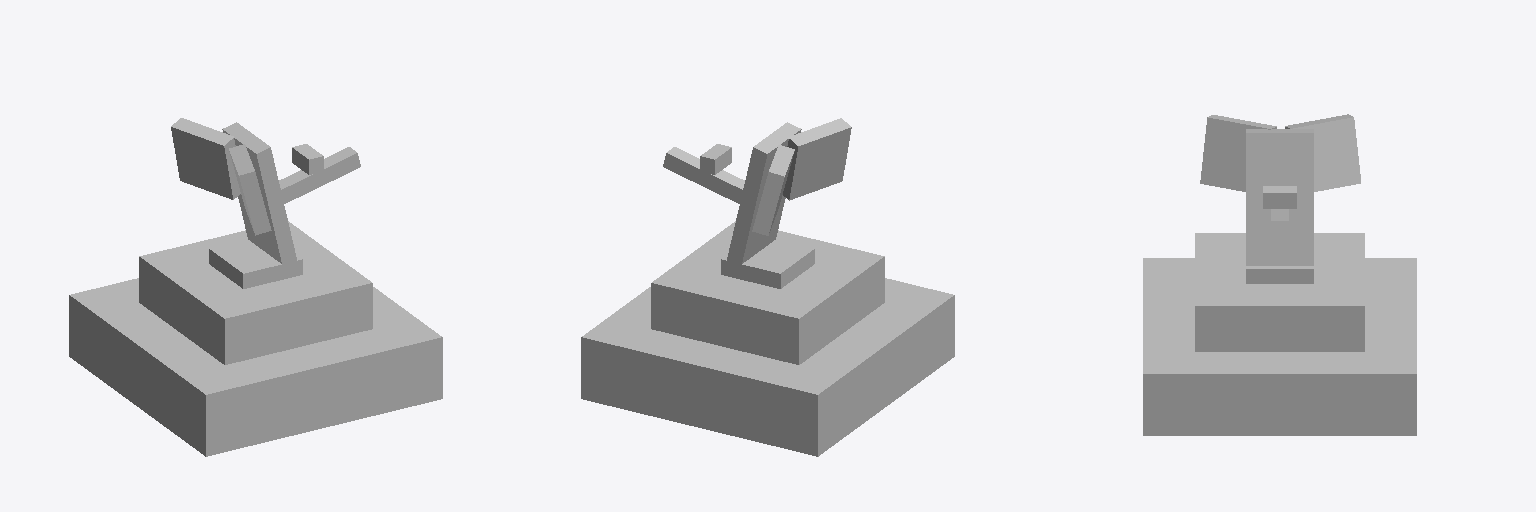
Rendered from universalSensor.obj.
3 views of the same model, side by side, from view 1: azimuth 30°, elevation 25°; view 2: azimuth 150°, elevation 25°; view 3: azimuth 270°, elevation 25° (orthographic).
Visible parts, largest first — view 1: Base1, Base2, Dish; view 2: Base1, Base2, Dish; view 3: Base1, Dish, Base2.
Boxes of the visible parts, box(x1,y1,x2,y2) form: Base1: box(69, 278, 442, 456); Base2: box(139, 221, 372, 364); Dish: box(171, 118, 360, 288); Base1: box(581, 278, 954, 456); Base2: box(651, 221, 884, 364); Dish: box(663, 118, 851, 288); Base1: box(1143, 258, 1416, 435); Dish: box(1200, 114, 1360, 283); Base2: box(1195, 233, 1364, 351).
Bounding box in the file's own units: 1 × 0.9847 × 1.